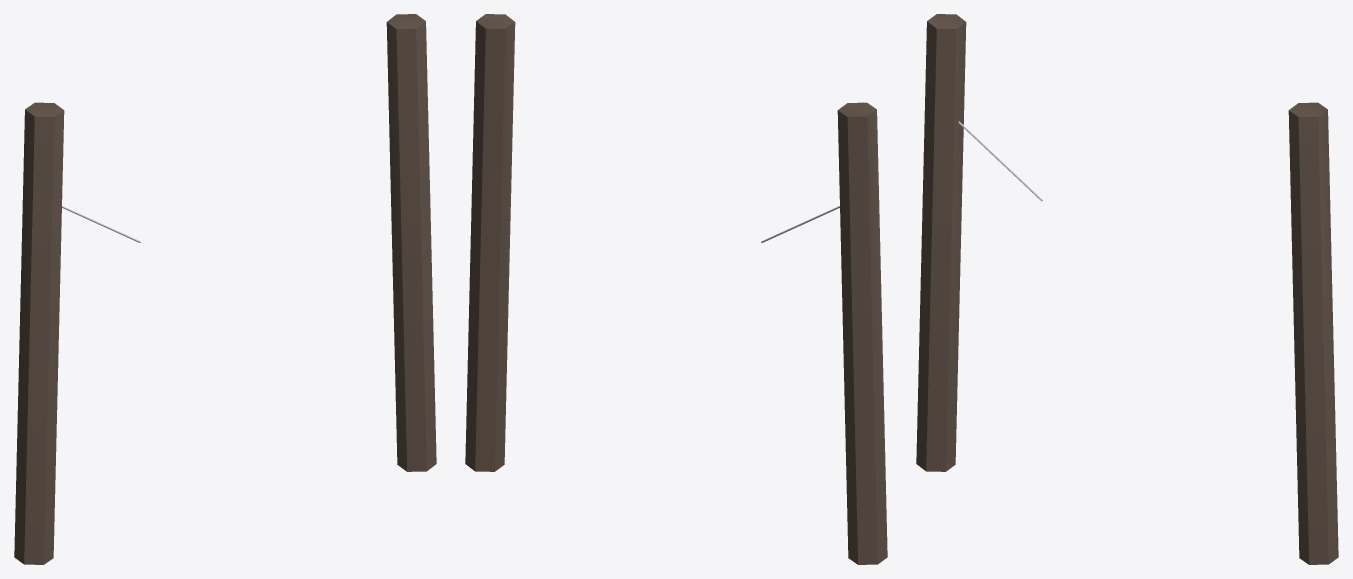
The model's file is Thread_Web_Used.fbx.
3 renders of one model, left to right at view 1: azimuth 30°, elevation 25°; view 2: azimuth 150°, elevation 25°; view 3: azimuth 330°, elevation 25°, orthographic.
Parts seen in each view (by area): view 1: Res_Thread_Web_Used; view 2: Res_Thread_Web_Used; view 3: Res_Thread_Web_Used.
Boxes of the visible parts, x1=… form: Res_Thread_Web_Used: x1=14, y1=14, x2=436, y2=564; Res_Thread_Web_Used: x1=465, y1=14, x2=887, y2=564; Res_Thread_Web_Used: x1=916, y1=14, x2=1338, y2=564.
Bounding box in the file's own units: 1.94 × 2 × 0.16.
